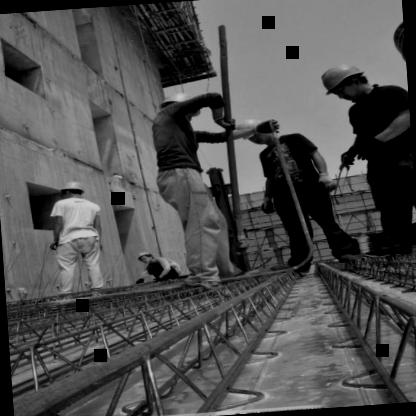helmet: (316, 60, 376, 100), (154, 90, 202, 122), (234, 116, 278, 146), (56, 180, 88, 203), (132, 249, 156, 264)
